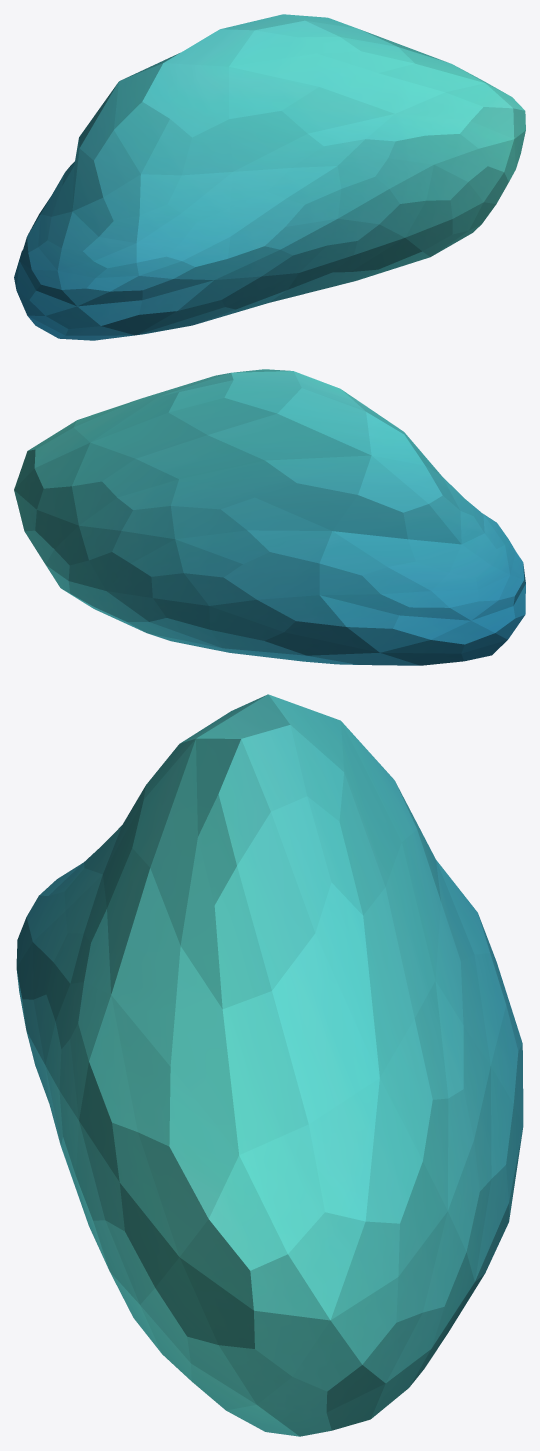
File: LargeRockSmoothed.fbx
3 views of the same model, one above another, from view 1: azimuth 30°, elevation 25°; view 2: azimuth 150°, elevation 25°; view 3: azimuth 270°, elevation 25° (orthographic). The views are drawn at different scales.
Parts seen in each view (by area): view 1: LargeRock; view 2: LargeRock; view 3: LargeRock.
Part boxes in pixels (x1=…): LargeRock: x1=14, y1=14, x2=525, y2=340; LargeRock: x1=14, y1=369, x2=525, y2=665; LargeRock: x1=16, y1=694, x2=523, y2=1436.
Size of the model in its own units: 515 by 276 by 238.
